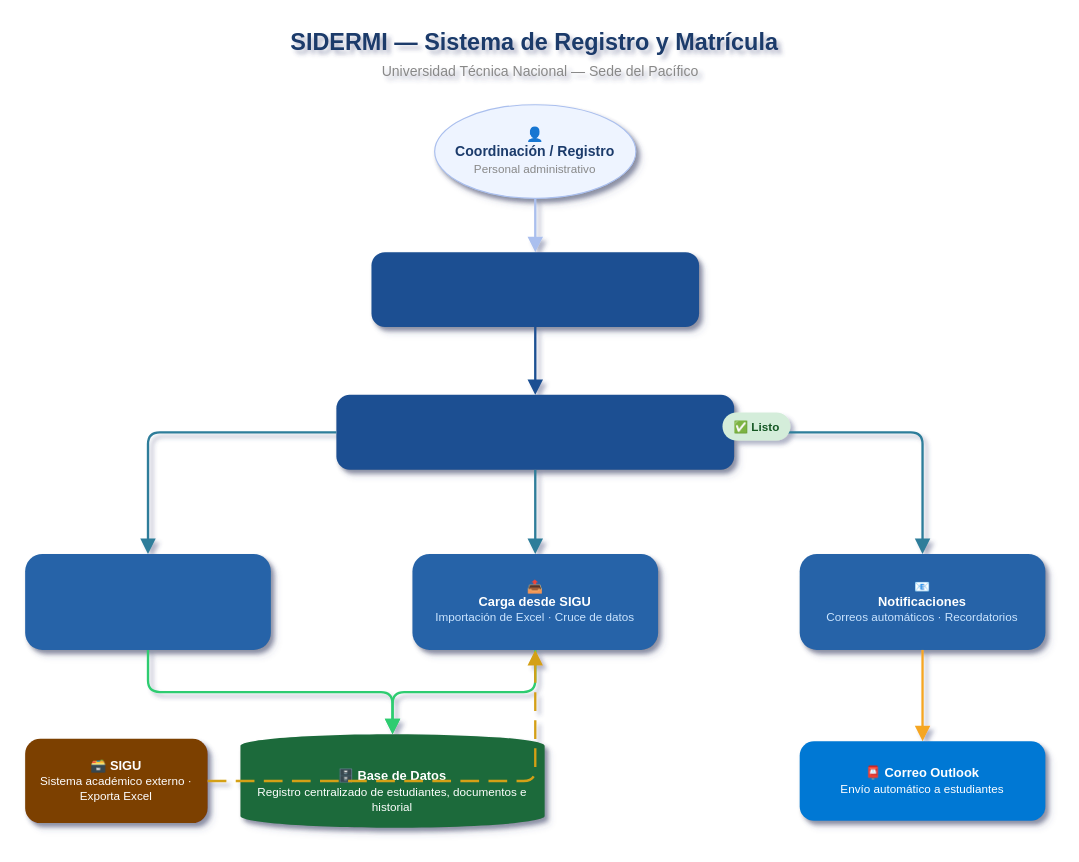
Image size: 1079x862. Some labels were removed from this diagram. Here are the shapes that lost their labels. From the top down, the centre of each, then its label:
pixel 536 291: 🔐 Inicio de Sesión Acceso seguro con usuario y contraseña
pixel 536 433: 📊 Panel Principal Resumen general · Estadísticas · Acceso rápido
pixel 148 603: 👥 Gestión de Estudiantes Listado · Estado de documentos · Edición
